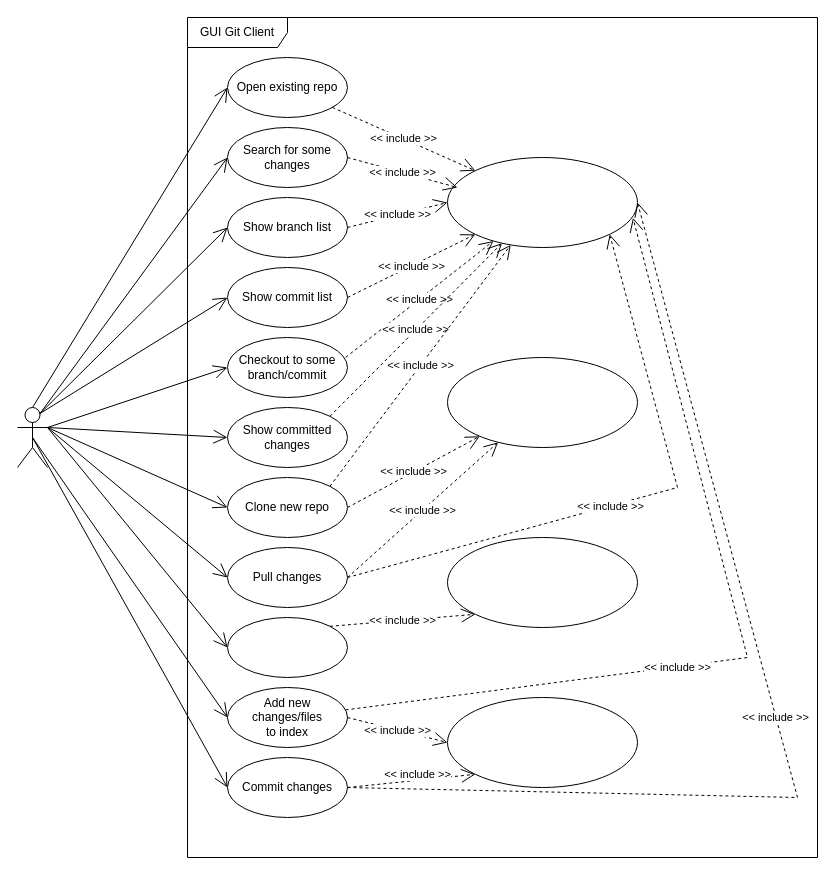
This 835x875 diagram has some shape labels left out. Here are the shapes that lost their labels. From the top down, the centre of each, then its label:
[542,202]: Display repo's state
[542,402]: Retrieve updates from remote repo
[32,437]: User
[542,582]: Upload updates to remote repo
[287,647]: Push changes
[542,742]: Update repo's state
